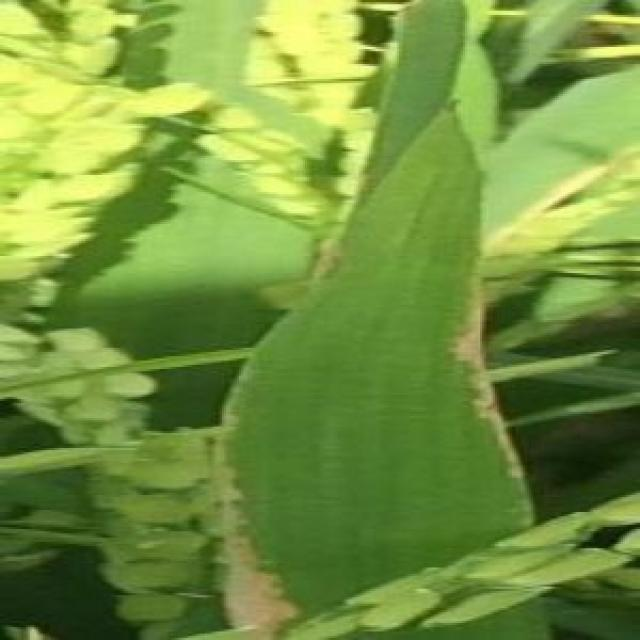leaf blight: (213, 405, 301, 623), (450, 284, 525, 467)
